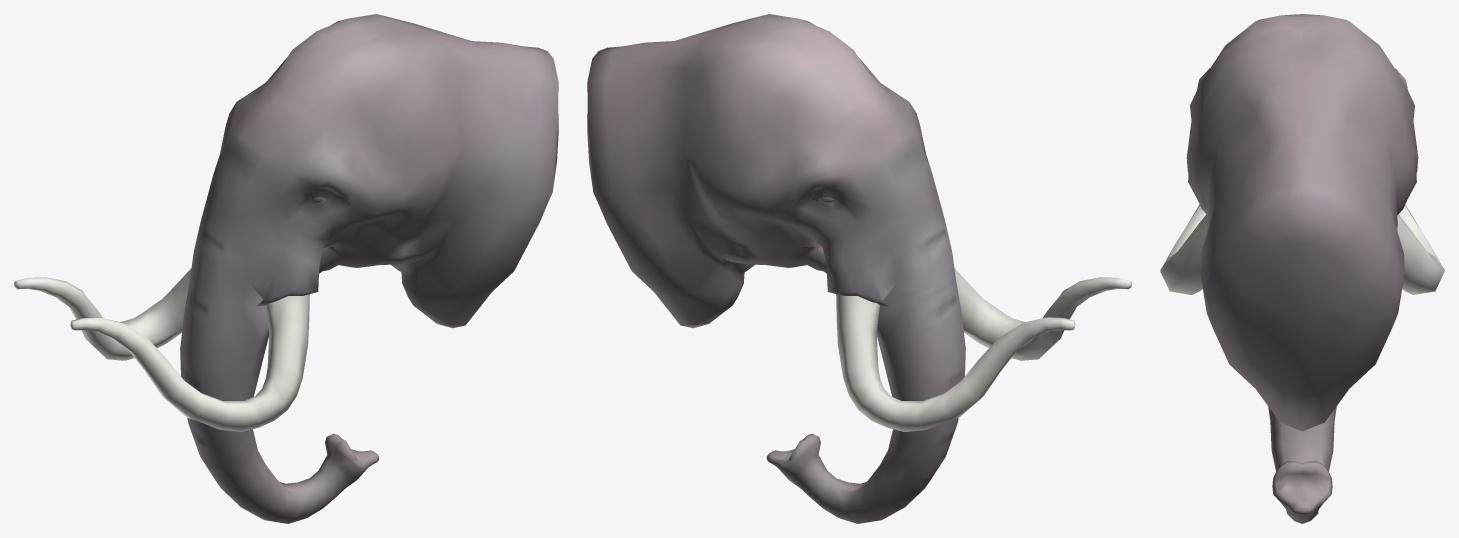
File: Elephant_Head_0.FBX
3 renders of one model, left to right at view 1: azimuth 30°, elevation 25°; view 2: azimuth 150°, elevation 25°; view 3: azimuth 270°, elevation 25°, orthographic. The views are drawn at different scales.
Visible parts, largest first — view 1: Elephant_Head_0; view 2: Elephant_Head_0; view 3: Elephant_Head_0.
Boxes of the visible parts, x1,y1,x2,y2 form: Elephant_Head_0: (14, 14, 558, 523); Elephant_Head_0: (587, 14, 1131, 523); Elephant_Head_0: (1160, 14, 1444, 523).
Size of the model in its own units: 3.31 by 2.94 by 1.44.
